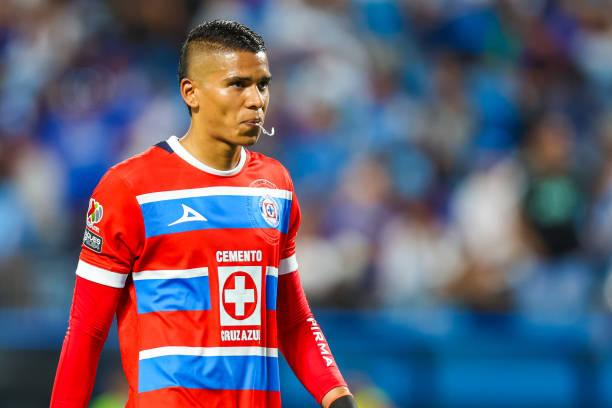Spitting: (160, 17, 301, 164)
